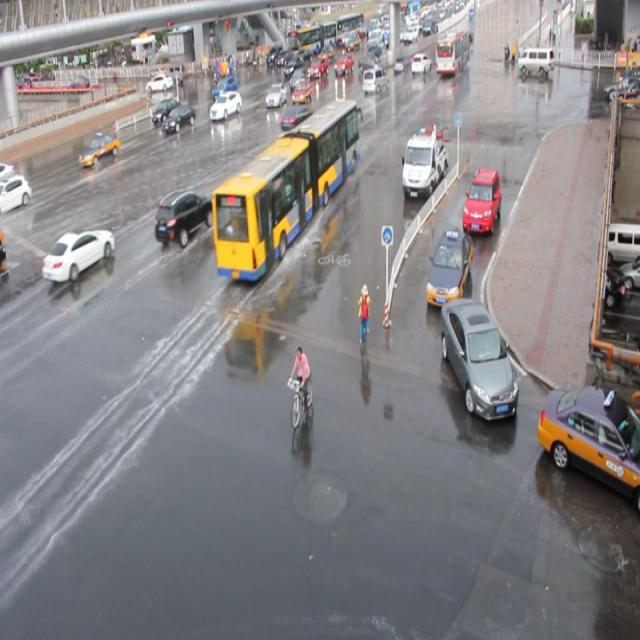bus: (400, 128, 447, 198)
car: (536, 383, 640, 509), (440, 295, 518, 420), (42, 226, 115, 281), (424, 227, 472, 308), (154, 189, 215, 245), (462, 167, 502, 234), (0, 173, 32, 217), (278, 128, 313, 166), (79, 134, 120, 166), (162, 104, 196, 133), (280, 104, 315, 132), (209, 91, 242, 120), (151, 98, 182, 124), (361, 68, 389, 94), (212, 76, 238, 102), (265, 83, 288, 109), (1, 161, 17, 196), (291, 79, 312, 104)
van: (212, 97, 359, 280)
